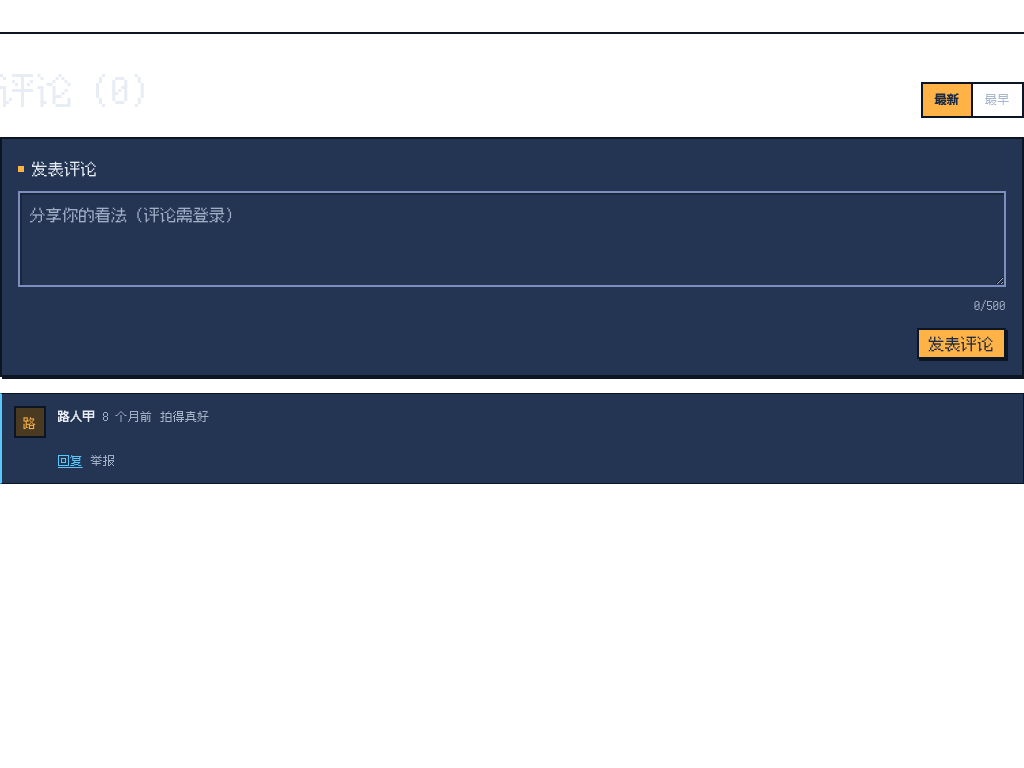
Test: 评论操作区 › 点举报打开评论举报对话框
Click the button with aria-label "举报这条评论" at (103, 461), box [91,450,115,471]
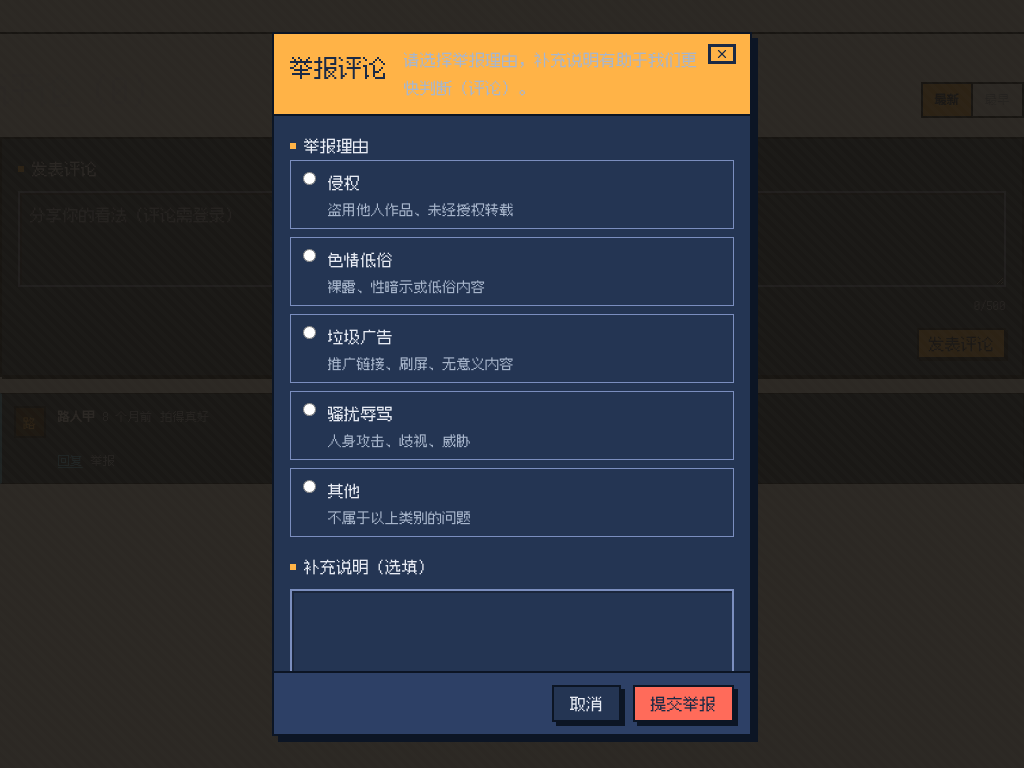
Expected: the heading "举报评论" is shown, [290,46,396,88]
